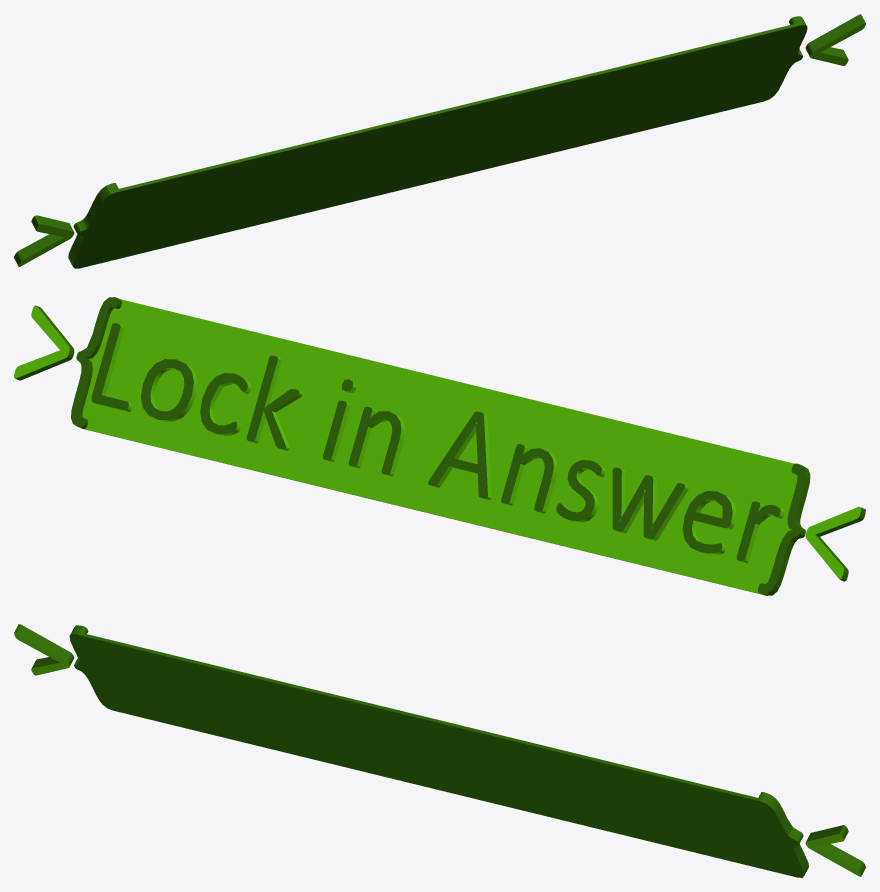
File: AST_lockIn.fbx
3 views of the same model, one above another, from view 1: azimuth 30°, elevation 25°; view 2: azimuth 150°, elevation 25°; view 3: azimuth 330°, elevation 25° (orthographic).
Visible parts, largest first — view 1: MSH_text_lockIn; view 2: MSH_text_lockIn; view 3: MSH_text_lockIn.
Boxes of the visible parts, left/top/right/bottom form: MSH_text_lockIn: left=14, top=14, right=865, bottom=268; MSH_text_lockIn: left=14, top=297, right=865, bottom=595; MSH_text_lockIn: left=14, top=624, right=865, bottom=877.
Bounding box in the file's own units: 50.27 × 6.29 × 4.35.
